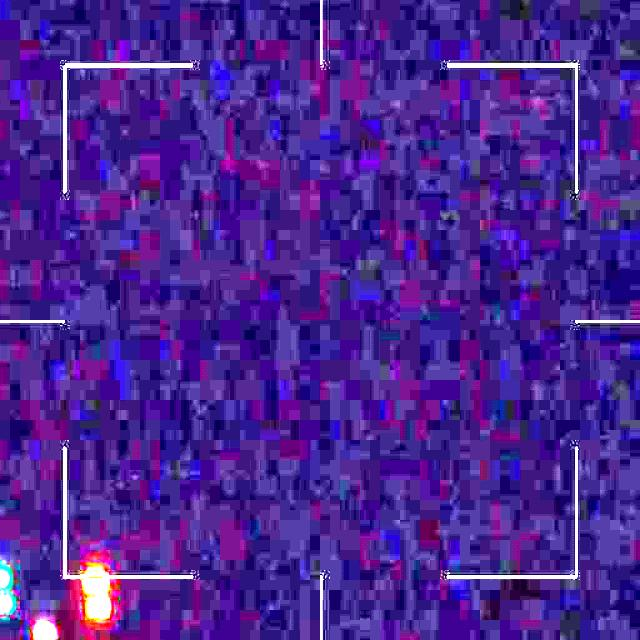bird: (0, 559, 112, 640)
